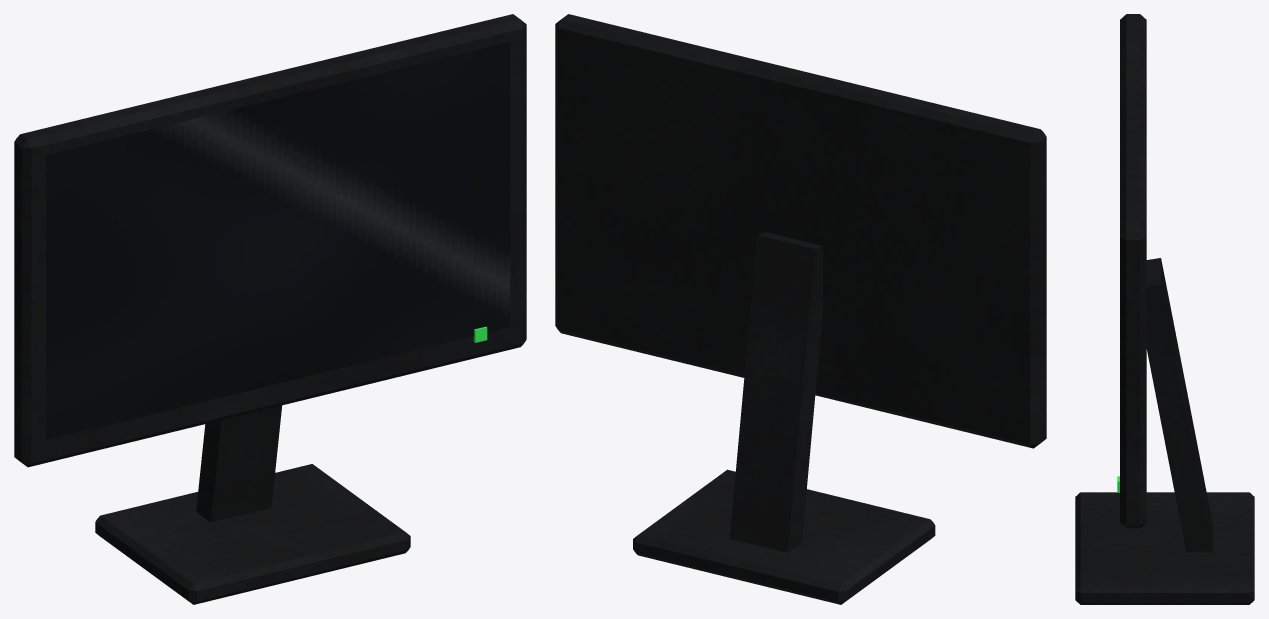
Rendered from Lab_LCD.fbx.
3 renders of one model, left to right at view 1: azimuth 30°, elevation 25°; view 2: azimuth 150°, elevation 25°; view 3: azimuth 270°, elevation 25°, orthographic. The views are drawn at different scales.
Visible parts, largest first — view 1: Lab_LCD; view 2: Lab_LCD; view 3: Lab_LCD.
Boxes of the visible parts, bbox=[...] form: Lab_LCD: bbox=[14, 14, 526, 604]; Lab_LCD: bbox=[555, 14, 1046, 604]; Lab_LCD: bbox=[1075, 14, 1254, 604].
Bounding box in the file's own units: 0.5 × 0.455 × 0.17.
